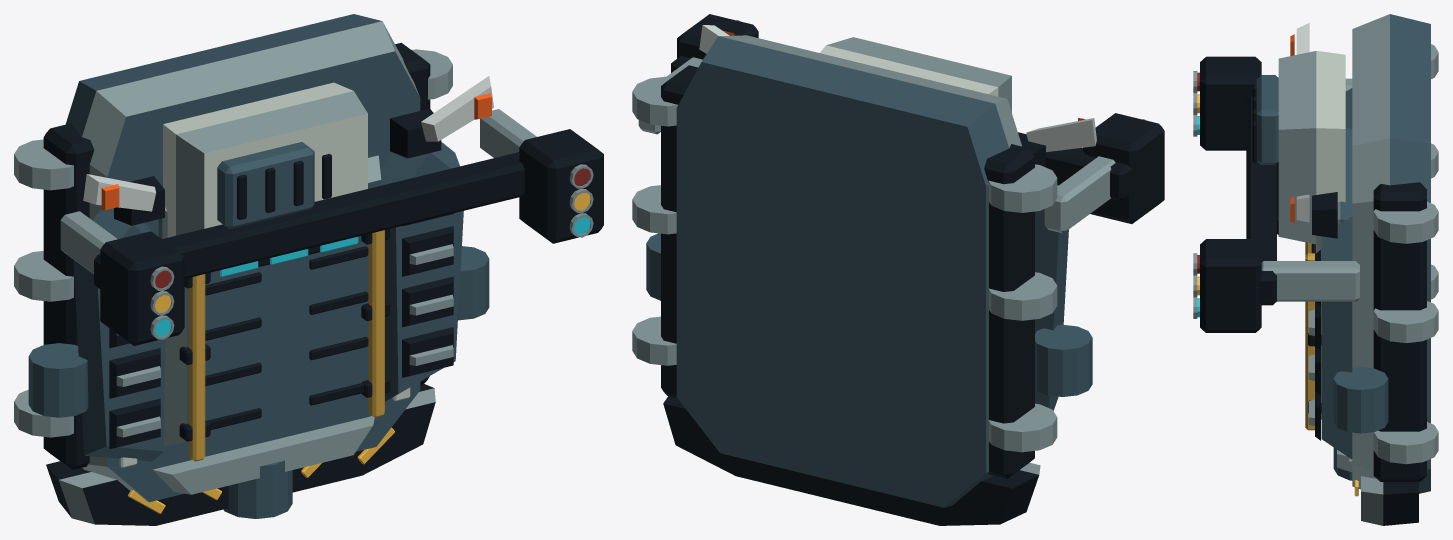
The picture shows the model from 3 angles, left to right: view 1: azimuth 30°, elevation 25°; view 2: azimuth 150°, elevation 25°; view 3: azimuth 270°, elevation 25°; orthographic projection. The views are drawn at different scales.
Visible parts, largest first — view 1: Model, Semaphore_1, Semaphore_-1; view 2: Model, Semaphore_-1; view 3: Model, Semaphore_-1, Semaphore_1.
Part boxes in pixels (x1,y1,x2,y2): Model: [14, 14, 603, 525]; Semaphore_1: [421, 76, 493, 141]; Semaphore_-1: [83, 174, 155, 211]; Model: [632, 14, 1164, 525]; Semaphore_-1: [1026, 118, 1096, 152]; Model: [1193, 14, 1438, 525]; Semaphore_-1: [1290, 23, 1309, 55]; Semaphore_1: [1290, 194, 1309, 223].
Size of the model in its own units: 2.91 by 2.52 by 1.44.
